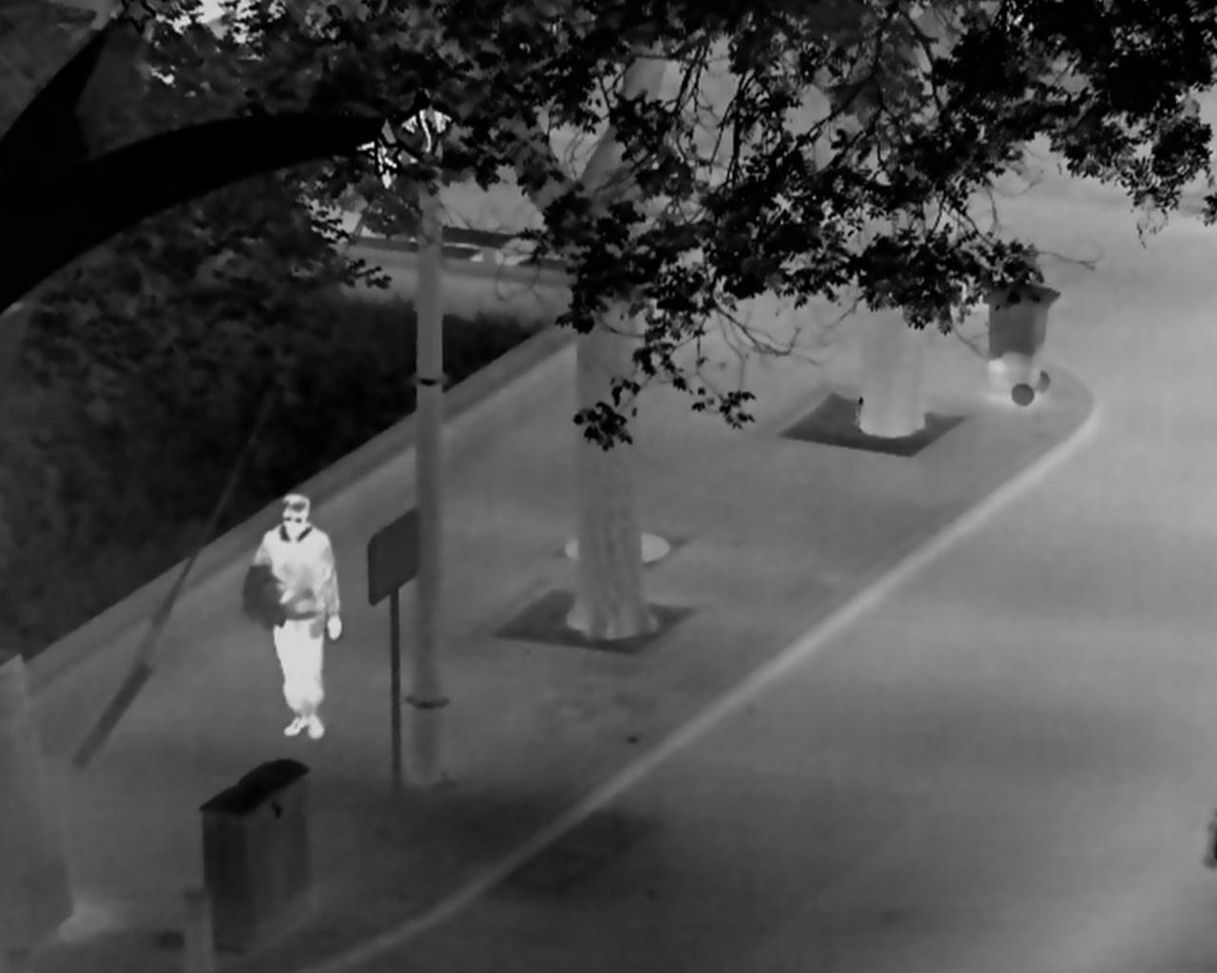person: (244, 493, 341, 740)
